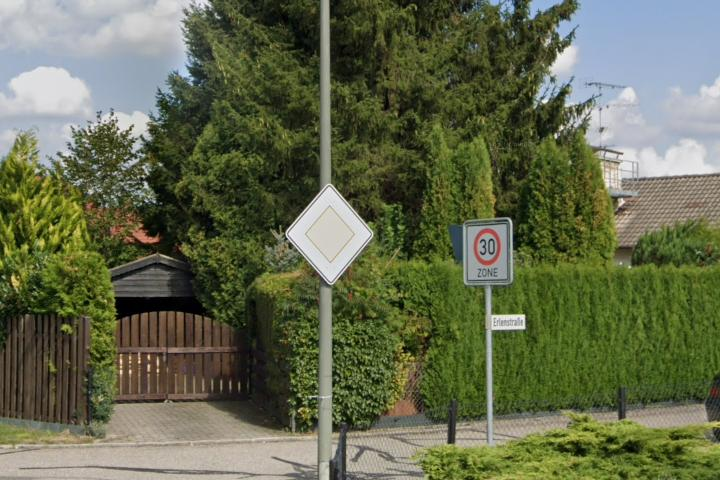traffic_sign: (285, 182, 376, 285), (473, 228, 502, 267)
